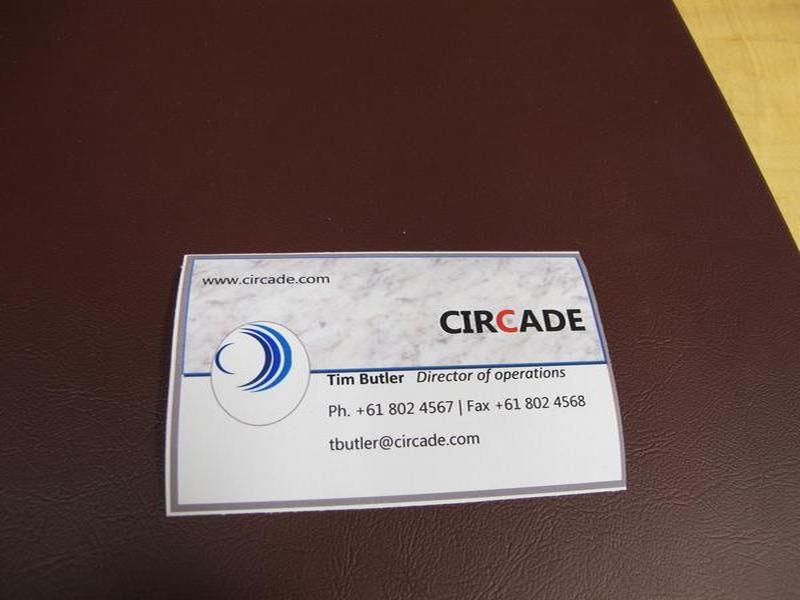card: (162, 244, 637, 503)
